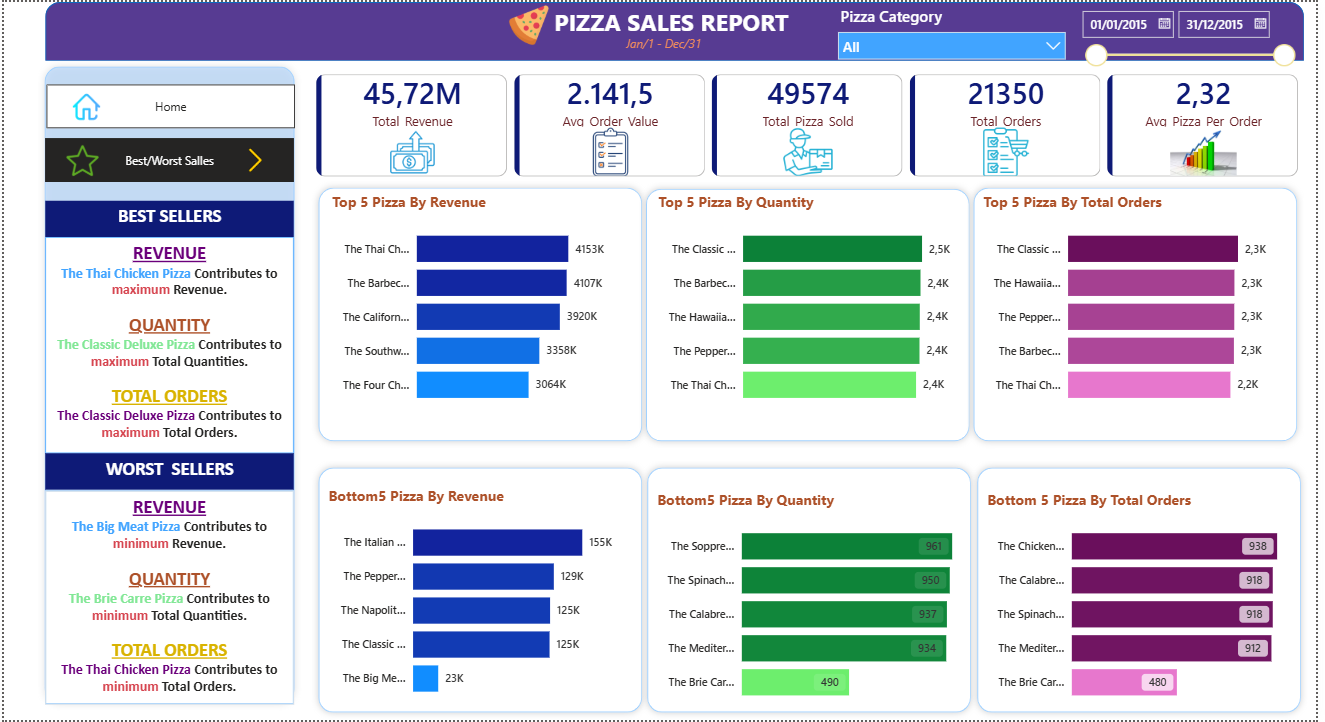

Layout of this report page (visuals, bound fields, positions):
{"tool":"powerbi","page":{"name":" Best/Worst Salles","canvas":[1500,820],"ordinal":1},"visuals":[{"type":"cardVisual","fields":{"Data":["pizza_sales.Total_Revenue","pizza_sales.Avg_Order_Value","pizza_sales.Total_Pizza_Sold","pizza_sales.Total_Orders","pizza_sales.Avg_Pizza_Per_Order"]},"box":[340,65.7,1160,151.4],"z":0},{"type":"shape","box":[38.6,65.7,301.4,744.3],"z":1000},{"type":"shape","box":[47.1,0,1438.6,67.1],"z":2000},{"type":"textbox","box":[620,0,285.7,50],"z":3000},{"type":"textbox","box":[705.7,32.9,114.3,34.3],"z":4000},{"type":"image","box":[564.3,2.9,71.4,47.1],"z":5000},{"type":"shape","box":[351.4,204.3,385.7,305.7],"z":6000},{"type":"shape","box":[725.7,205.7,385.7,304.3],"z":7000},{"type":"shape","box":[1100,204.3,385.7,305.7],"z":8000},{"type":"textbox","box":[47.1,227.1,284.3,41.4],"z":9000},{"type":"textbox","box":[47.1,268.6,284.3,247.1],"z":10000},{"type":"textbox","box":[47.1,558.6,284.3,244.3],"z":11000},{"type":"textbox","box":[47.1,515.7,284.3,41.4],"z":12000},{"type":"slicer","fields":{"Values":["pizza_sales.pizza_category"]},"box":[942.9,0,280,65.7],"z":13000},{"type":"slicer","fields":{"Values":["pizza_sales.order_date"]},"box":[1220,0,264.3,80],"z":14000},{"type":"shape","box":[351.4,524.3,385.7,295.7],"z":15000},{"type":"shape","box":[727.1,524.3,385.7,295.7],"z":16000},{"type":"shape","box":[1104.3,524.3,385.7,295.7],"z":17000},{"type":"barChart","title":"Top 5 Pizza By Revenue","fields":{"Category":["pizza_sales.pizza_name"],"Y":["pizza_sales.Total_Revenue"]},"box":[370,217.1,357.1,257.1],"z":18000},{"type":"barChart","title":"Bottom5 Pizza By Revenue","fields":{"Category":["pizza_sales.pizza_name"],"Y":["pizza_sales.Total_Revenue"]},"box":[365.7,552.9,357.1,257.1],"z":19000},{"type":"barChart","title":"Top 5 Pizza By Quantity","fields":{"Category":["pizza_sales.pizza_name"],"Y":["pizza_sales.Total_Pizza_Sold"]},"box":[742.9,217.1,357.1,257.1],"z":20000},{"type":"barChart","title":"Bottom5 Pizza By Quantity","fields":{"Category":["pizza_sales.pizza_name"],"Y":["pizza_sales.Total_Pizza_Sold"]},"box":[741.4,557.1,357.1,257.1],"z":21000},{"type":"barChart","title":"Top 5 Pizza By Total Orders","fields":{"Category":["pizza_sales.pizza_name"],"Y":["pizza_sales.Total_Orders"]},"box":[1114.3,217.1,357.1,257.1],"z":22000},{"type":"barChart","title":"Bottom 5 Pizza By Total Orders","fields":{"Category":["pizza_sales.pizza_name"],"Y":["pizza_sales.Total_Orders"]},"box":[1118.6,557.1,357.1,257.1],"z":23000},{"type":"pageNavigator","box":[47.1,155.7,284.3,50],"z":24000},{"type":"pageNavigator","box":[48.6,94.3,284.3,50],"z":25000},{"type":"image","box":[265.7,167.1,42.9,27.1],"z":26000},{"type":"image","box":[64.3,104.3,60,31.4],"z":27000},{"type":"image","box":[58.6,162.9,62.9,37.1],"z":28000}]}

Visuals, with their boxes in screenshot pixels (x1, y1, x2, y2), scaled from the page's 1500x820 canvas onto the 1325x722 screenshot:
cardVisual - pizza_sales.Total_Revenue x pizza_sales.Avg_Order_Value: 300,58,1324,191
shape: 34,58,300,713
shape: 42,0,1312,59
textbox: 548,0,800,44
textbox: 623,29,724,59
image: 498,3,562,44
shape: 310,180,651,449
shape: 641,181,982,449
shape: 972,180,1312,449
textbox: 42,200,293,236
textbox: 42,236,293,454
textbox: 42,492,293,707
textbox: 42,454,293,491
slicer - pizza_sales.pizza_category: 833,0,1080,58
slicer - pizza_sales.order_date: 1078,0,1311,70
shape: 310,462,651,721
shape: 642,462,983,721
shape: 975,462,1316,721
"Top 5 Pizza By Revenue" barChart: 327,191,642,418
"Bottom5 Pizza By Revenue" barChart: 323,487,638,713
"Top 5 Pizza By Quantity" barChart: 656,191,972,418
"Bottom5 Pizza By Quantity" barChart: 655,491,970,717
"Top 5 Pizza By Total Orders" barChart: 984,191,1300,418
"Bottom 5 Pizza By Total Orders" barChart: 988,491,1304,717
pageNavigator: 42,137,293,181
pageNavigator: 43,83,294,127
image: 235,147,273,171
image: 57,92,110,119
image: 52,143,107,176
